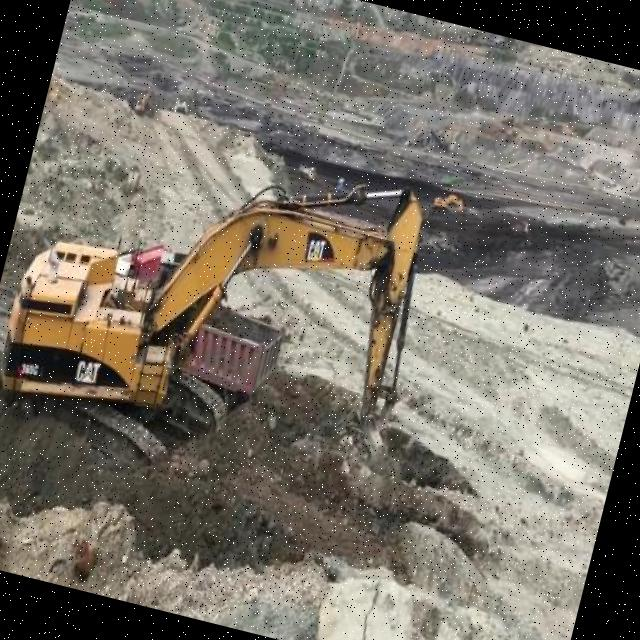Dump Truck: (188, 301, 288, 400)
Excavator: (0, 94, 449, 526)
